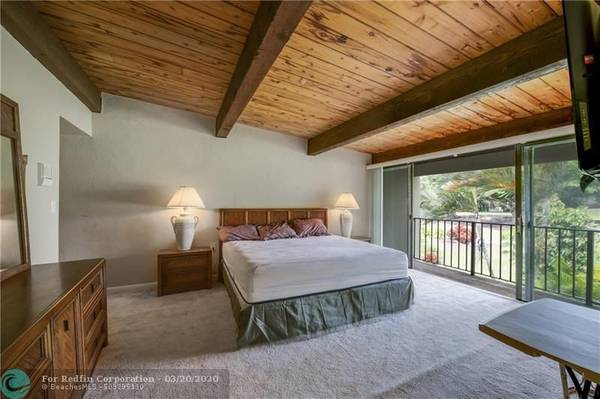bed: (217, 207, 413, 343)
dresser: (1, 259, 108, 399)
lamp: (165, 186, 207, 251), (332, 193, 360, 239)
night stand: (158, 249, 216, 297)
